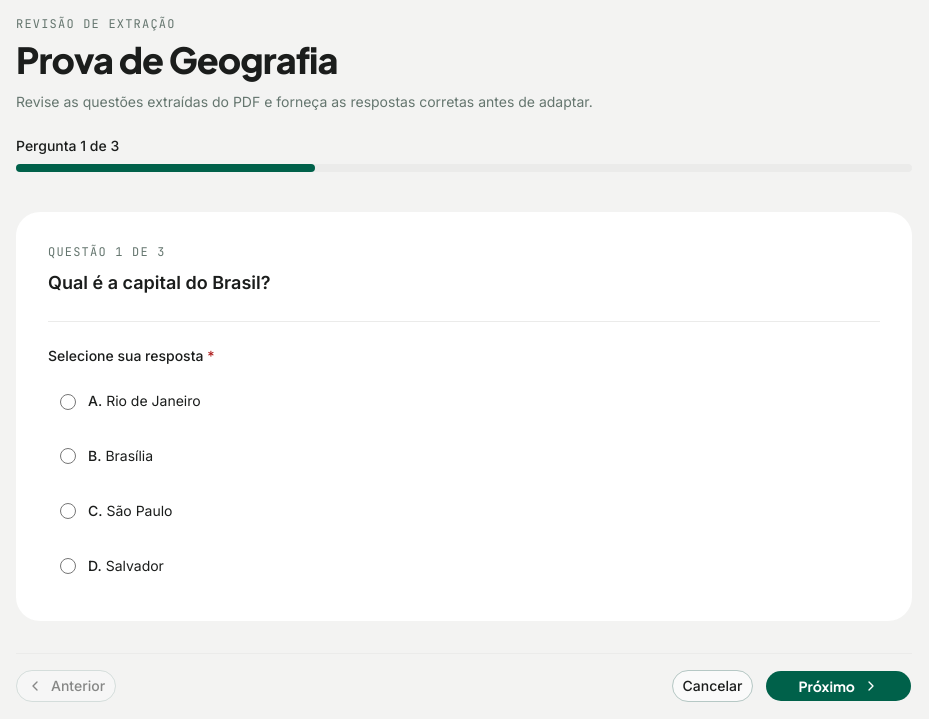
Test: ExtractionForm › Form Submission › should show loading state during submission
Click the radio button with aria-label "Alternativa B: Brasília" at (68, 456), box 60,448 -> 76,464
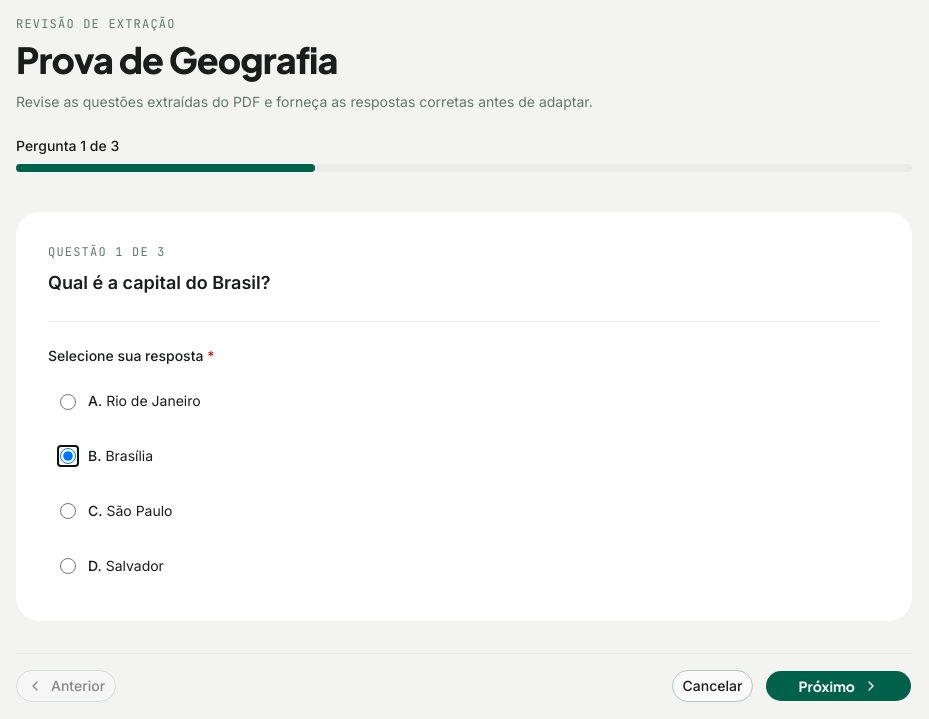
Click the button "Próximo" at (839, 686), box 765,670 -> 912,702
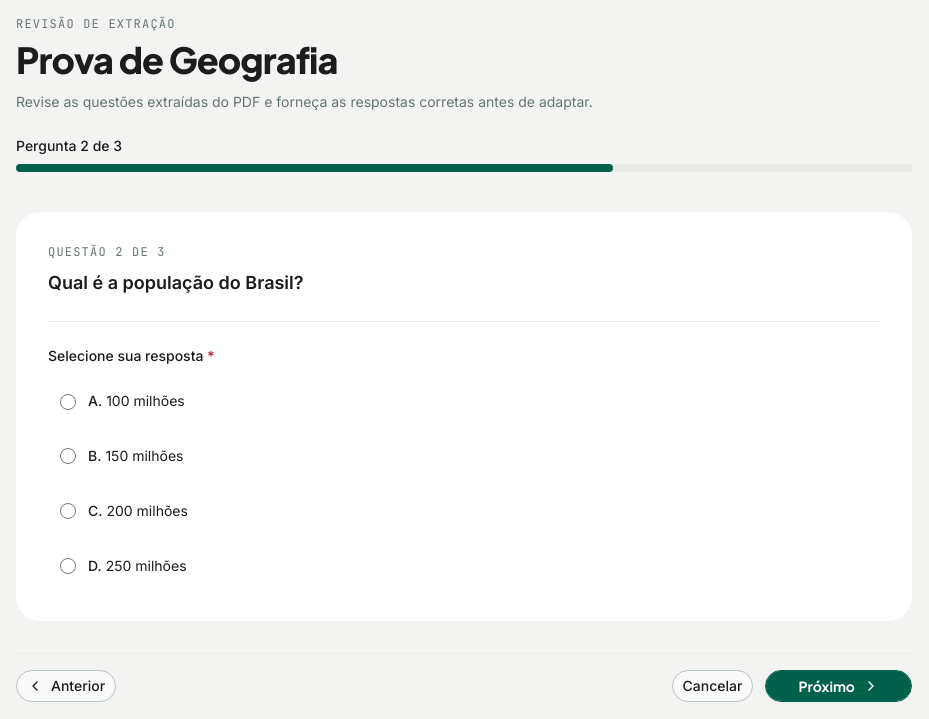
Expected: the text "Pergunta 2 de 3" is shown, 16,137 -> 122,154
Click the radio button with aria-label "Alternativa B: 150 milhões" at (68, 456), box 60,448 -> 76,464
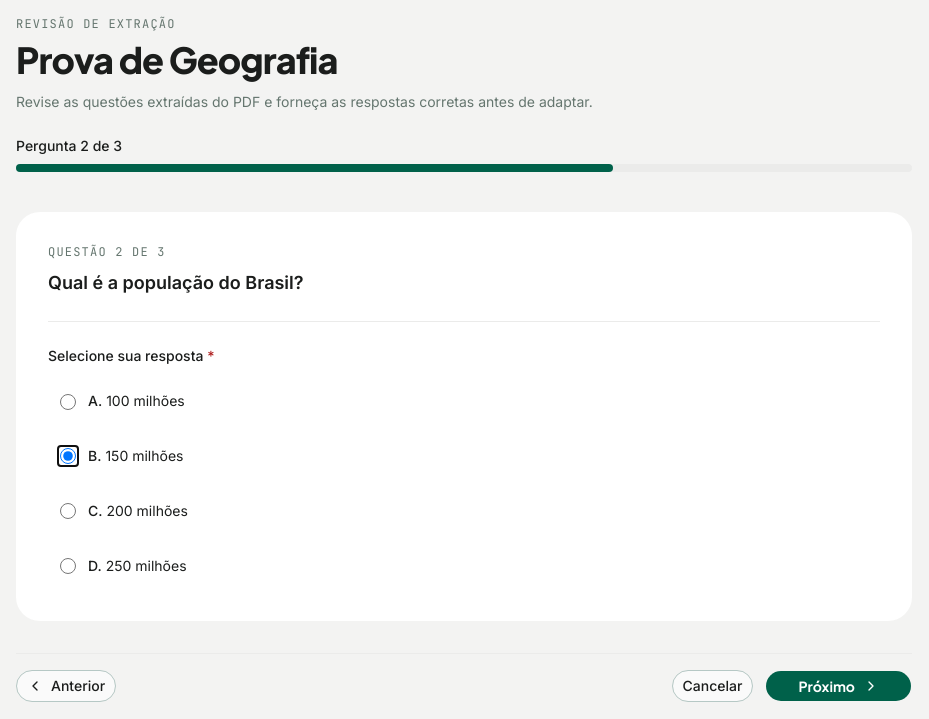
Click the button "Próximo" at (839, 686), box 765,670 -> 912,702
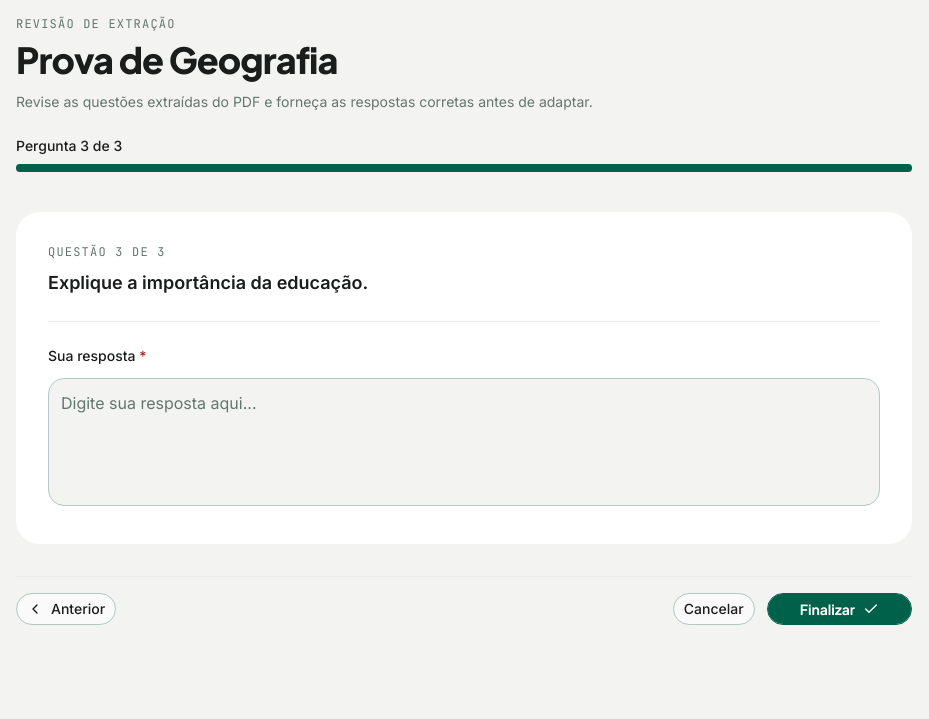
Expected: the text "Pergunta 3 de 3" is shown, 16,137 -> 122,154
Type "Essay response" into the text box with placeholder "Digite sua resposta aqui..." at (464, 442), box 48,378 -> 880,506
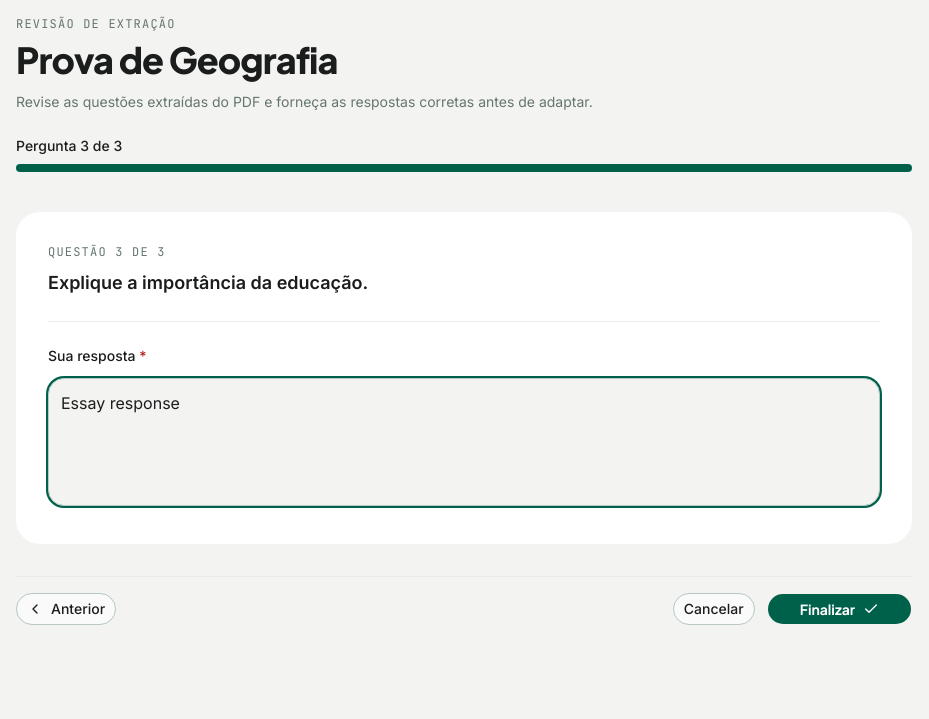
Submit and check for loading state
Click the button "Finalizar" at (839, 609), box 767,593 -> 912,625
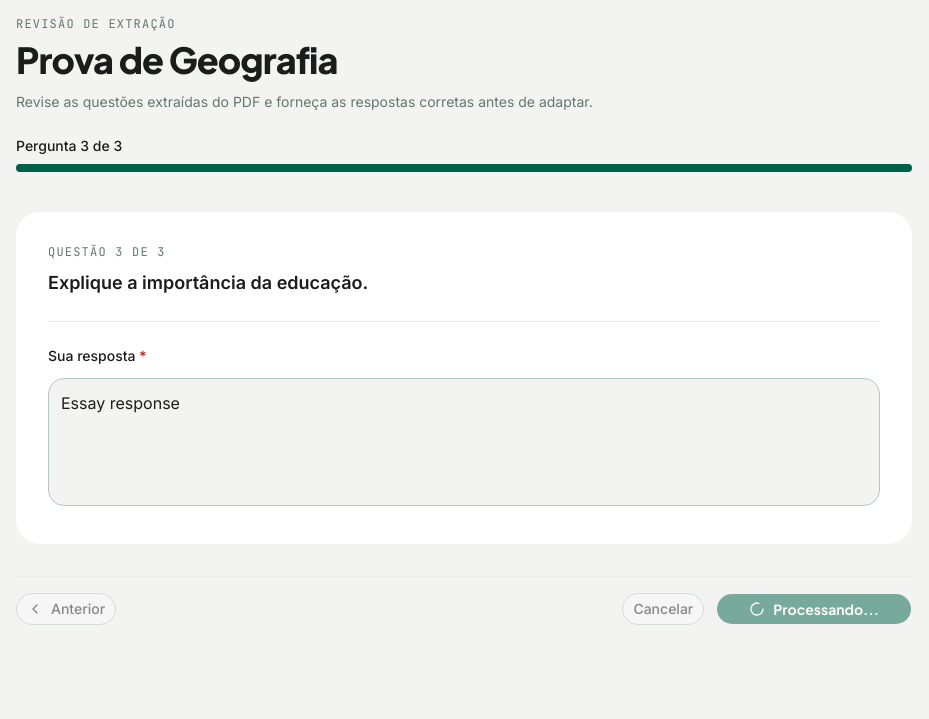
Expected: the button "Processando..." is disabled, 716,593 -> 912,625
